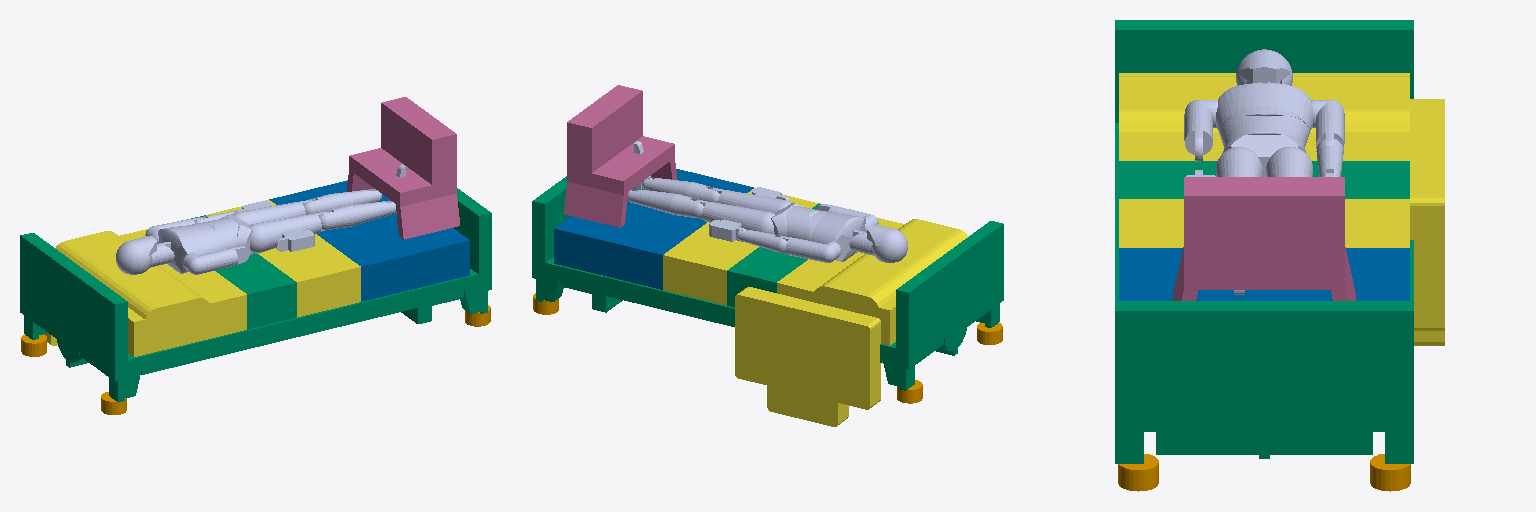
--- Render facts (derived) ---
Views: 3 orthographic renders of the robot side by side, from view 1: azimuth 30°, elevation 25°; view 2: azimuth 150°, elevation 25°; view 3: azimuth 270°, elevation 25°.
Model bed_and_environment_cali_henry_tray with 41 links and 40 joints (26 revolute, 6 prismatic, 8 fixed), rooted at autobed/base_link, posed every joint at zero.
Visible links, largest first — view 1: autobed/bed_frame_link, autobed/head_rest_link, autobed/overbed_tray_link, autobed/leg_rest_lower, autobed/leg_rest_upper, autobed/upper_body_link, autobed/quad_right_link, autobed/calf_right_link, autobed/base_link, autobed/head_link, autobed/arm_right_link, autobed/calf_left_link (+3 smaller); view 2: autobed/head_rest_link, autobed/bed_frame_link, autobed/overbed_tray_link, autobed/leg_rest_lower, autobed/leg_rest_upper, autobed/upper_body_link, autobed/quad_left_link, autobed/calf_left_link, autobed/base_link, autobed/head_link, autobed/calf_right_link, autobed/arm_left_link (+4 smaller); view 3: autobed/bed_frame_link, autobed/head_rest_link, autobed/overbed_tray_link, autobed/leg_rest_lower, autobed/leg_rest_upper, autobed/upper_body_link, autobed/base_link, autobed/mid_body_link, autobed/arm_right_link, autobed/head_link, autobed/arm_left_link, autobed/lower_body_link (+3 smaller).
Boxes of the visible links, bbox=[...] form: autobed/bed_frame_link: bbox=[20, 188, 491, 402]; autobed/head_rest_link: bbox=[44, 229, 246, 356]; autobed/overbed_tray_link: bbox=[347, 97, 459, 239]; autobed/leg_rest_lower: bbox=[269, 180, 469, 301]; autobed/leg_rest_upper: bbox=[206, 200, 360, 317]; autobed/upper_body_link: bbox=[157, 223, 214, 273]; autobed/quad_right_link: bbox=[249, 212, 328, 253]; autobed/calf_right_link: bbox=[320, 201, 395, 229]; autobed/base_link: bbox=[21, 305, 490, 414]; autobed/head_link: bbox=[116, 236, 156, 274]; autobed/arm_right_link: bbox=[182, 246, 249, 274]; autobed/calf_left_link: bbox=[304, 189, 381, 214]; autobed/head_rest_link: bbox=[735, 217, 968, 426]; autobed/bed_frame_link: bbox=[532, 176, 1003, 390]; autobed/overbed_tray_link: bbox=[564, 85, 676, 227]; autobed/leg_rest_lower: bbox=[554, 169, 753, 289]; autobed/leg_rest_upper: bbox=[663, 188, 818, 305]; autobed/upper_body_link: bbox=[809, 211, 866, 261]; autobed/quad_left_link: bbox=[696, 200, 774, 233]; autobed/calf_left_link: bbox=[628, 189, 703, 218]; autobed/base_link: bbox=[533, 293, 1002, 403]; autobed/head_link: bbox=[867, 224, 907, 262]; autobed/calf_right_link: bbox=[642, 177, 719, 202]; autobed/arm_left_link: bbox=[779, 236, 841, 262]; autobed/bed_frame_link: bbox=[1115, 20, 1413, 463]; autobed/head_rest_link: bbox=[1119, 73, 1444, 345]; autobed/overbed_tray_link: bbox=[1173, 177, 1355, 300]; autobed/leg_rest_lower: bbox=[1119, 248, 1409, 300]; autobed/leg_rest_upper: bbox=[1119, 199, 1409, 247]; autobed/upper_body_link: bbox=[1216, 83, 1313, 136]; autobed/base_link: bbox=[1118, 454, 1410, 491]; autobed/mid_body_link: bbox=[1220, 116, 1308, 148]; autobed/arm_right_link: bbox=[1184, 100, 1217, 161]; autobed/head_link: bbox=[1236, 49, 1292, 85]; autobed/arm_left_link: bbox=[1311, 100, 1344, 148]; autobed/lower_body_link: bbox=[1222, 135, 1306, 176].
Bounding box of the posed robot: 2.41 × 1.13 × 1.25 m (x, y, z).
Meshes: 24 distinct files referenced, 21 mesh visuals loaded (21 binary STL); not drawn: 3 (reference not matched to a file when rendering).

URDF robot description (bed_and_environment_cali_henry_tray):
<?xml version="1.0"?>
<robot
  name="bed_and_environment_cali_henry_tray">
  <link
   name="autobed/base_link">
    <inertial>
      <origin
        xyz="1.1357 5.02524375187963E-16 0.0837923121940762"
        rpy="0 0 0" />
      <mass
        value="6.1860172808288" />
      <inertia
        ixx="1.21978721906848"
        ixy="2.44249065417534E-15"
        ixz="-1.95644145492449E-15"
        iyy="8.04681346721547"
        iyz="-8.29396064187448E-16"
        izz="9.14286094259782" />
    </inertial>
    <visual>
      <origin
        xyz="0 0 0"
        rpy="0 0 0" />
      <geometry>
        <mesh
          filename="package://hrl_base_selection/urdf/bed_and_environment_cali_henry_tray/meshes/base_link.STL" />
      </geometry>
    </visual>
    <collision>
      <origin
        xyz="0 0 0"
        rpy="0 0 0" />
      <geometry>
        <mesh
          filename="package://hrl_base_selection/urdf/bed_and_environment_cali_henry_tray/meshes/base_link.STL" />
      </geometry>
    </collision>
  </link>
    <link
   name="autobed/wall_link">
<inertial>
      <origin
        xyz="1.87797370531369 0.344853002331874 0.50260600946241"
        rpy="0 0 0" />
      <mass
        value="3357.24028579199" />
      <inertia
        ixx="6116.11427029265"
        ixy="3215.70073716445"
        ixz="-7.36787327233699"
        iyy="7061.83554462804"
        iyz="404.207480292852"
        izz="12009.0931540893" />
    </inertial>
    <visual>
      <origin
        xyz="0 0 0"
        rpy="0 0 0" />
      <geometry>
        <mesh
          filename="package://hrl_base_selection/urdf/bed_and_environment_cali_henry_tray/meshes/wall_link.STL" />
      </geometry>
    </visual>
    <collision>
      <origin
        xyz="0 0 0"
        rpy="0 0 0" />
      <geometry>
        <mesh
          filename="package://hrl_base_selection/urdf/bed_and_environment_cali_henry_tray/meshes/wall_link.STL" />
      </geometry>
    </collision>
  </link>
  <joint
   name="autobed/origin_wall_joint"
    type="fixed">
    <origin
      xyz="-0.121553494210093 -0.00360284373118887 0"
      rpy="-6.12323399573677E-17 -2.86271466643222E-16 -0.0588984739444681" />
    <parent
      link="autobed/base_link" />
    <child
      link="autobed/wall_link" />
    <axis
      xyz="0 0 0" />
  </joint>
  <link
   name="autobed/bed_frame_link">
    <inertial>
      <origin
        xyz="1.21628575112374 -0.00457131635492439 -0.0135493327987712"
        rpy="0 0 0" />
      <mass
        value="438.573663325781" />
      <inertia
        ixx="42.8905274768398"
        ixy="0.0492397267886641"
        ixz="-5.59060599846785"
        iyy="241.766114116497"
        iyz="0.273352447936363"
        izz="273.415411937571" />
    </inertial>
    <visual>
      <origin
        xyz="0 0 0"
        rpy="0 0 0" />
      <geometry>
        <mesh
          filename="package://hrl_base_selection/urdf/bed_and_environment_cali_henry_tray/meshes/bed_frame_link.STL" />
      </geometry>
    </visual>
    <collision>
      <origin
        xyz="0 0 0"
        rpy="0 0 0" />
      <geometry>
        <mesh
          filename="package://hrl_base_selection/urdf/bed_and_environment_cali_henry_tray/meshes/bed_frame_link.STL" />
      </geometry>
    </collision>
  </link>
  <joint
   name="autobed/tele_legs_joint"
    type="prismatic">
    <origin
      xyz="-0.0400000000000005 0 0.320000000000001"
      rpy="0 0 0" />
    <parent
      link="autobed/base_link" />
    <child
      link="autobed/bed_frame_link" />
    <axis
      xyz="0 0 1" />
    <limit
      lower="-1"
      upper="1"
      effort="0"
      velocity="0" />
  </joint>
  <link
   name="autobed/leg_rest_upper">
    <inertial>
      <origin
        xyz="0.200000000000001 0.105 5.39949211906603E-16"
        rpy="0 0 0" />
      <mass
        value="83.5800000000001" />
      <inertia
        ixx="7.20268062500001"
        ixy="6.22789394401658E-17"
        ixz="5.26123900305408E-16"
        iyy="8.00992412500002"
        iyz="-4.24421100017485E-15"
        izz="1.4215565" />
    </inertial>
    <visual>
      <origin
        xyz="0 0 0"
        rpy="0 0 0" />
      <geometry>
        <mesh
          filename="package://hrl_base_selection/urdf/bed_and_environment_cali_henry_tray/meshes/leg_rest_upper.STL" />
      </geometry>
    </visual>
    <collision>
      <origin
        xyz="0 0 0"
        rpy="0 0 0" />
      <geometry>
        <mesh
          filename="package://hrl_base_selection/urdf/bed_and_environment_cali_henry_tray/meshes/leg_rest_upper.STL" />
      </geometry>
    </collision>
  </link>
  <joint
   name="autobed/leg_rest_upper_hinge"
    type="revolute">
    <origin
      xyz="1.145 0 0"
      rpy="1.5707963267949 -1.84377299293392E-16 7.65430446472183E-16" />
    <parent
      link="autobed/bed_frame_link" />
    <child
      link="autobed/leg_rest_upper" />
    <axis
      xyz="0 0 1" />
    <limit
      lower="-2"
      upper="2"
      effort="0"
      velocity="0" />
  </joint>
  <link
   name="autobed/leg_rest_lower">
    <inertial>
      <origin
        xyz="0.34 0.105 -5.47791833032667E-17"
        rpy="0 0 0" />
      <mass
        value="142.086" />
      <inertia
        ixx="12.2445570625"
        ixy="-5.16774213504574E-17"
        ixz="-2.28125300458666E-16"
        iyy="17.1974382125"
        iyz="4.5484254092282E-16"
        izz="5.99721325" />
    </inertial>
    <visual>
      <origin
        xyz="0 0 0"
        rpy="0 0 0" />
      <geometry>
        <mesh
          filename="package://hrl_base_selection/urdf/bed_and_environment_cali_henry_tray/meshes/leg_rest_lower.STL" />
      </geometry>
    </visual>
    <collision>
      <origin
        xyz="0 0 0"
        rpy="0 0 0" />
      <geometry>
        <mesh
          filename="package://hrl_base_selection/urdf/bed_and_environment_cali_henry_tray/meshes/leg_rest_lower.STL" />
      </geometry>
    </collision>
  </link>
  <joint
   name="autobed/leg_rest_lower_hinge"
    type="revolute">
    <origin
      xyz="0.400000000000001 0 0"
      rpy="8.46545056276682E-16 -2.4743657509036E-16 -1.8315782125782E-16" />
    <parent
      link="autobed/leg_rest_upper" />
    <child
      link="autobed/leg_rest_lower" />
    <axis
      xyz="0 0 -1" />
    <limit
      lower="-2"
      upper="2"
      effort="0"
      velocity="0" />
  </joint>
  <joint
   name="autobed/leg_rest_lower_overbed_tray_y_joint"
    type="prismatic">
    <origin
      xyz="1.1264 0.209999999999999 0.0"
      rpy="-1.5707963267949 -7.65430446472183E-16 -1.84377299293393E-16" />
    <parent
      link="autobed/leg_rest_upper" />
    <child
      link="autobed/overbed_tray_y_link" />
    <axis
      xyz="0 1 0" />
    <limit
      lower="-2"
      upper="2"
      effort="0"
      velocity="0" />
  </joint>
  <link
   name="autobed/overbed_tray_y_link">
  </link>
  <joint
   name="autobed/leg_rest_lower_overbed_tray_x_joint"
    type="prismatic">
    <origin
      xyz="0 0 0"
      rpy="0 0 0" />
    <parent
      link="autobed/overbed_tray_y_link" />
    <child
      link="autobed/overbed_tray_link" />
    <axis
      xyz="1 0 0" />
    <limit
      lower="-2"
      upper="2"
      effort="0"
      velocity="0" />
  </joint>
  <link
   name="autobed/overbed_tray_link">
    <inertial>
      <origin
        xyz="-0.126831334555388 -2.39391839684799E-16 0.292487182922541"
        rpy="0 0 0" />
      <mass
        value="45.8804418306016" />
      <inertia
        ixx="2.25610644406934"
        ixy="5.89980014167489E-16"
        ixz="0.245785758241238"
        iyy="1.17395227790145"
        iyz="9.18641561642936E-16"
        izz="1.88004614377697" />
    </inertial>
    <visual>
      <origin
        xyz="0 0 0"
        rpy="0 0 0" />
      <geometry>
        <mesh
          filename="package://hrl_base_selection/urdf/bed_and_environment_cali_henry_tray/meshes/overbed_tray_link.STL" />
      </geometry>
    </visual>
    <collision>
      <origin
        xyz="0 0 0"
        rpy="0 0 0" />
      <geometry>
        <mesh
          filename="package://hrl_base_selection/urdf/bed_and_environment_cali_henry_tray/meshes/overbed_tray_link.STL" />
      </geometry>
    </collision>
  </link>
  <joint
    name="autobed/tray_screen_bottom_left_joint"
    type="fixed">
    <origin
      xyz="-0.15408 0.27686 0.26419"
      rpy="0 0 0" />
    <parent
      link="autobed/overbed_tray_link" />
    <child
      link="autobed/screen_bottom_left_link" />
  </joint>
  <link
    name="autobed/screen_bottom_left_link">
  </link>
  <joint
    name="autobed/tray_screen_bottom_right_joint"
    type="fixed">
    <origin
      xyz="-0.15408 -0.27686 0.26419"
      rpy="0 0 0" />
    <parent
      link="autobed/overbed_tray_link" />
    <child
      link="autobed/screen_bottom_right_link" />
  </joint>
  <link
    name="autobed/screen_bottom_right_link">
  </link>
  <joint
    name="autobed/tray_screen_top_left_joint"
    type="fixed">
    <origin
      xyz="-0.15408 0.27686 0.53419"
      rpy="0 0 0" />
    <parent
      link="autobed/overbed_tray_link" />
    <child
      link="autobed/screen_top_left_link" />
  </joint>
  <link
    name="autobed/screen_top_left_link">
  </link>
  <joint
    name="autobed/tray_screen_top_right_joint"
    type="fixed">
    <origin
      xyz="-0.15408 -0.27686 0.53419"
      rpy="0 0 0" />
    <parent
      link="autobed/overbed_tray_link" />
    <child
      link="autobed/screen_top_right_link" />
  </joint>
  <link
    name="autobed/screen_top_right_link">
  </link>
  <link
   name="autobed/head_rest_link">
    <inertial>
      <origin
        xyz="0.329573377413269 -0.160120828020686 0.144918621186554"
        rpy="0 0 0" />
      <mass
        value="224.783329311116" />
      <inertia
        ixx="32.8876282309991"
        ixy="1.69548410687658"
        ixz="-3.19639748968515"
        iyy="37.6526299034377"
        iyz="-6.40258778692133"
        izz="16.0712822442492" />
    </inertial>
    <visual>
      <origin
        xyz="0 0 0"
        rpy="0 0 0" />
      <geometry>
        <mesh
          filename="package://hrl_base_selection/urdf/bed_and_environment_cali_henry_tray/meshes/head_rest_link.STL" />
      </geometry>
    </visual>
    <collision>
      <origin
        xyz="0 0 0"
        rpy="0 0 0" />
      <geometry>
        <mesh
          filename="package://hrl_base_selection/urdf/bed_and_environment_cali_henry_tray/meshes/head_rest_link.STL" />
      </geometry>
    </collision>
  </link>
  <joint
   name="autobed/head_rest_hinge"
    type="revolute">
    <origin
      xyz="0.835 0 0.21"
      rpy="1.5708 0 -3.1416" />
    <parent
      link="autobed/bed_frame_link" />
    <child
      link="autobed/head_rest_link" />
    <axis
      xyz="0 0 1" />
    <limit
      lower="-2"
      upper="2"
      effort="0"
      velocity="0" />
  </joint>
  <link
    name="autobed/neck_rotated_to_worldframe_link">
  </link>
  <joint
    name="autobed/headrest_bed_to_worldframe_joint"
    type="revolute">
    <origin
      xyz="0.25949 0.1 0"
      rpy="0. 0. 0." />
    <!--<origin-->
      <!--xyz="0.40949 0.05 0"-->
      <!--rpy="0. 0. 0." />-->
    <parent
      link="autobed/head_rest_link" />
    <child
      link="autobed/neck_rotated_to_worldframe_link" />
    <axis
      xyz="0 0 1" />
    <limit
      lower="-2"
      upper="2"
      effort="0"
      velocity="0" />
  </joint>
  <link
    name="autobed/neck_updown_worldframe_translation_link">
  </link>
  <joint
    name="autobed/bed_neck_worldframe_updown_joint"
    type="prismatic">
    <origin
      xyz="0.0 0.0 0"
      rpy="0.0 0.0 0.0" />
    <parent
      link="autobed/neck_rotated_to_worldframe_link" />
    <child
      link="autobed/neck_updown_worldframe_translation_link" />
    <axis
      xyz="-1 0 0" />
    <limit
      lower="-2"
      upper="2"
      effort="0"
      velocity="0" />
  </joint>
  <link
    name="autobed/neck_rotated_to_bedframe_link">
  </link>
  <joint
    name="autobed/bed_neck_to_bedframe_joint"
    type="revolute">
    <origin
      xyz="0.0 0.0 0"
      rpy="0. 0. 0." />
    <parent
      link="autobed/neck_updown_worldframe_translation_link" />
    <child
      link="autobed/neck_rotated_to_bedframe_link" />
    <axis
      xyz="0 0 1" />
    <limit
      lower="-2"
      upper="2"
      effort="0"
      velocity="0" />
  </joint>
  <link
    name="autobed/neck_updown_bedframe_translation_link">
  </link>
  <joint
    name="autobed/bed_neck_base_updown_bedframe_joint"
    type="prismatic">
    <origin
      xyz="0.0 0.0 0"
      rpy="0. 0. 0." />
    <parent
      link="autobed/neck_rotated_to_bedframe_link" />
    <child
      link="autobed/neck_updown_bedframe_translation_link" />
    <axis
      xyz="-1 0 0" />
    <limit
      lower="-2"
      upper="2"
      effort="0"
      velocity="0" />
  </joint>
  <link
    name="autobed/neck_base_link">
  </link>
  <joint
    name="autobed/bed_neck_base_leftright_joint"
    type="prismatic">
    <origin
      xyz="0 0 0"
      rpy="0 3.14159 0" />
    <parent
      link="autobed/neck_updown_bedframe_translation_link" />
    <child
      link="autobed/neck_base_link" />
    <axis
      xyz="0 0 -1" />
    <limit
      lower="-2"
      upper="2"
      effort="0"
      velocity="0" />
  </joint>
  <link
    name="autobed/neck_twist_link">
  </link>
  <joint
    name="autobed/neck_twist_joint"
    type="revolute">
    <origin
      xyz="0.0 0.0 0"
      rpy="0. 0. 0." />
    <parent
      link="autobed/neck_base_link" />
    <child
      link="autobed/neck_twist_link" />
    <axis
      xyz="1 0 0" />
    <limit
      lower="-2"
      upper="2"
      effort="0"
      velocity="0" />
  </joint>
  <link
    name="autobed/neck_tilt_link">
  </link>
  <joint
    name="autobed/neck_tilt_joint"
    type="revolute">
    <origin
      xyz="0.0 0.0 0"
      rpy="0. 0. 0." />
    <parent
      link="autobed/neck_twist_link" />
    <child
      link="autobed/neck_tilt_link" />
    <axis
      xyz="0 0 -1" />
    <limit
      lower="-2"
      upper="2"
      effort="0"
      velocity="0" />
  </joint>
  <link
    name="autobed/neck_link">
    <visual>
      <origin
        xyz="0 0 0"
        rpy="0 0 0" />
      <geometry>
        <mesh
          filename="package://hrl_base_selection/urdf/bed_and_environment_cali_henry_tray/meshes/neck_link.STL" />
      </geometry>
      <material
        name="">
        <color
          rgba="0.792156862745098 0.819607843137255 0.933333333333333 1" />
      </material>
    </visual>
    <collision>
      <origin
        xyz="0 0 0"
        rpy="0 0 0" />
      <geometry>
        <mesh
          filename="package://hrl_base_selection/urdf/bed_and_environment_cali_henry_tray/meshes/neck_link.STL" />
      </geometry>
    </collision>
  </link>
  <joint
    name="autobed/neck_to_neck_top_joint"
    type="fixed">
    <origin
      xyz="-0.07239 0 0"
      rpy="0 0 0" />
    <parent
      link="autobed/neck_tilt_link" />
    <child
      link="autobed/neck_link" />
  </joint>
  <link
    name="autobed/neck_top_rotated_link">
  </link>
  <joint
    name="autobed/neck_rotation_fixed_joint"
    type="fixed">
    <origin
      xyz="0 0 0"
      rpy="-1.570796 0 1.570796" />
    <parent
      link="autobed/neck_link" />
    <child
      link="autobed/neck_top_rotated_link" />
    <axis
      xyz="0 0 1" />
    <limit
      lower="-2"
      upper="2"
      effort="0"
      velocity="0" />
  </joint>
  <link
    name="autobed/head_roty_link">
  </link>
  <joint
    name="autobed/neck_head_roty_joint"
    type="revolute">
    <origin
      xyz="0.0154 0 0.07779"
      rpy="0 0 0" />
    <parent
      link="autobed/neck_top_rotated_link" />
    <child
      link="autobed/head_roty_link" />
    <axis
      xyz="0 1 0" />
    <limit
      lower="-2"
      upper="2"
      effort="0"
      velocity="0" />
  </joint>
  <link
    name="autobed/head_rotz_link">
  </link>
  <joint
    name="autobed/neck_head_rotz_joint"
    type="revolute">
    <origin
      xyz="0 0 0"
      rpy="0 0 0" />
    <parent
      link="autobed/head_roty_link" />
    <child
      link="autobed/head_rotz_link" />
    <axis
      xyz="0 0 1" />
    <limit
      lower="-2"
      upper="2"
      effort="0"
      velocity="0" />
  </joint>

  <link
    name="autobed/head_link">
    <visual>
      <origin
        xyz="0 0 0"
        rpy="0 0 0" />
      <geometry>
        <mesh
          filename="package://hrl_base_selection/urdf/bed_and_environment_cali_henry_tray/meshes/head_link.STL" />
      </geometry>
      <material
        name="">
        <color
          rgba="0.792156862745098 0.819607843137255 0.933333333333333 1" />
      </material>
    </visual>
    <collision>
      <origin
        xyz="0 0 0"
        rpy="0 0 0" />
      <geometry>
        <mesh
          filename="package://hrl_base_selection/urdf/bed_and_environment_cali_henry_tray/meshes/head_link.STL" />
      </geometry>
    </collision>
  </link>
  <joint
    name="autobed/neck_head_rotx_joint"
    type="revolute">
    <origin
      xyz="0 0 0"
      rpy="0 0 0" />
    <parent
      link="autobed/head_rotz_link" />
    <child
      link="autobed/head_link" />
    <axis
      xyz="1 0 0" />
    <limit
      lower="-2"
      upper="2"
      effort="0"
      velocity="0" />
  </joint>
  <joint
    name="autobed/head_eyes_joint"
    type="fixed">
    <origin
      xyz="0.09779 0 0.03"
      rpy="0 0 0" />
    <parent
      link="autobed/head_link" />
    <child
      link="autobed/eyes_link" />
  </joint>
  <link
    name="autobed/eyes_link">
  </link>
  <link
    name="autobed/upper_body_link">
    <visual>
      <origin
        xyz="0 0 0"
        rpy="0 0 0" />
      <geometry>
        <mesh
          filename="package://hrl_base_selection/urdf/bed_and_environment_cali_henry_tray/meshes/upper_body_link.STL" />
      </geometry>
      <material
        name="">
        <color
          rgba="0.792156862745098 0.819607843137255 0.933333333333333 1" />
      </material>
    </visual>
    <collision>
      <origin
        xyz="0 0 0"
        rpy="0 0 0" />
      <geometry>
        <mesh
          filename="package://hrl_base_selection/urdf/bed_and_environment_cali_henry_tray/meshes/upper_body_link.STL" />
      </geometry>
    </collision>
  </link>
  <joint
    name="autobed/neck_body_joint"
    type="revolute">
    <origin
      xyz="0.00 0 0"
      rpy="0 0 0" />
    <parent
      link="autobed/neck_base_link" />
    <child
      link="autobed/upper_body_link" />
    <axis
      xyz="0 0 -1" />
    <limit
      lower="-2"
      upper="2"
      effort="0"
      velocity="0" />
  </joint>
  <link
    name="autobed/mid_body_link">
    <visual>
      <origin
        xyz="0 0 0"
        rpy="0 0 0" />
      <geometry>
        <mesh
          filename="package://hrl_base_selection/urdf/bed_and_environment_cali_henry_tray/meshes/mid_body_link.STL" />
      </geometry>
      <material
        name="">
        <color
          rgba="0.792156862745098 0.819607843137255 0.933333333333333 1" />
      </material>
    </visual>
    <collision>
      <origin
        xyz="0 0 0"
        rpy="0 0 0" />
      <geometry>
        <mesh
          filename="package://hrl_base_selection/urdf/bed_and_environment_cali_henry_tray/meshes/mid_body_link.STL" />
      </geometry>
    </collision>
  </link>
  <joint
    name="autobed/upper_mid_body_joint"
    type="revolute">
    <origin
      xyz="0.35052 0 0"
      rpy="0 0 0" />
    <parent
      link="autobed/upper_body_link" />
    <child
      link="autobed/mid_body_link" />
    <axis
      xyz="0 0 1" />
    <limit
      lower="-2"
      upper="2"
      effort="0"
      velocity="0" />
  </joint>
  <link
    name="autobed/lower_body_link">
    <visual>
      <origin
        xyz="0 0 0"
        rpy="0 0 0" />
      <geometry>
        <mesh
          filename="package://hrl_base_selection/urdf/bed_and_environment_cali_henry_tray/meshes/lower_body_link.STL" />
      </geometry>
      <material
        name="">
        <color
          rgba="0.792156862745098 0.819607843137255 0.933333333333333 1" />
      </material>
    </visual>
    <collision>
      <origin
        xyz="0 0 0"
        rpy="0 0 0" />
      <geometry>
        <mesh
          filename="package://hrl_base_selection/urdf/bed_and_environment_cali_henry_tray/meshes/lower_body_link.STL" />
      </geometry>
    </collision>
  </link>
  <joint
    name="autobed/mid_lower_body_joint"
    type="revolute">
    <origin
      xyz="0.15113 0 0"
      rpy="0 0 0" />
    <parent
      link="autobed/mid_body_link" />
    <child
      link="autobed/lower_body_link" />
    <axis
      xyz="0 0 1" />
    <limit
      lower="-2"
      upper="2"
      effort="0"
      velocity="0" />
  </joint>
  <link
    name="autobed/quad_left_link">
    <visual>
      <origin
        xyz="0 0 0"
        rpy="0 0 0" />
      <geometry>
        <mesh
          filename="package://hrl_base_selection/urdf/bed_and_environment_cali_henry_tray/meshes/quad_left_link.STL" />
      </geometry>
      <material
        name="">
        <color
          rgba="0.792156862745098 0.819607843137255 0.933333333333333 1" />
      </material>
    </visual>
    <collision>
      <origin
        xyz="0 0 0"
        rpy="0 0 0" />
      <geometry>
        <mesh
          filename="package://hrl_base_selection/urdf/bed_and_environment_cali_henry_tray/meshes/quad_left_link.STL" />
      </geometry>
    </collision>
  </link>
  <joint
    name="autobed/body_quad_left_joint"
    type="revolute">
    <origin
      xyz="0.05207 0 -0.08636"
      rpy="0 0 -.25" />
    <parent
      link="autobed/lower_body_link" />
    <child
      link="autobed/quad_left_link" />
    <axis
      xyz="0 0 1" />
    <limit
      lower="-3."
      upper="3."
      effort="0"
      velocity="0" />
  </joint>
  <link
    name="autobed/calf_left_link">
    <visual>
      <origin
        xyz="0 0 0"
        rpy="0 0 0" />
      <geometry>
        <mesh
          filename="package://hrl_base_selection/urdf/bed_and_environment_cali_henry_tray/meshes/calf_left_link.STL" />
      </geometry>
      <material
        name="">
        <color
          rgba="0.792156862745098 0.819607843137255 0.933333333333333 1" />
      </material>
    </visual>
    <collision>
      <origin
        xyz="0 0 0"
        rpy="0 0 0" />
      <geometry>
        <mesh
          filename="package://hrl_base_selection/urdf/bed_and_environment_cali_henry_tray/meshes/calf_left_link.STL" />
      </geometry>
    </collision>
  </link>
  <joint
    name="autobed/quad_calf_left_joint"
    type="revolute">
    <origin
      xyz="0.41218 0.11044 0"
      rpy="3.14159 0 3.43" />
    <parent
      link="autobed/quad_left_link" />
    <child
      link="autobed/calf_left_link" />
    <axis
      xyz="0 0 1" />
    <limit
      lower="-3."
      upper="3."
      effort="0"
      velocity="0" />
  </joint>
  <link
    name="autobed/foot_left_link">
    <visual>
      <origin
        xyz="0 0 0"
        rpy="0 0 0" />
      <geometry>
        <mesh
          filename="package://hrl_base_selection/urdf/bed_and_environment_cali_henry_tray/meshes/foot_left_link.STL" />
      </geometry>
      <material
        name="">
        <color
          rgba="0.792156862745098 0.819607843137255 0.933333333333333 1" />
      </material>
    </visual>
    <collision>
      <origin
        xyz="0 0 0"
        rpy="0 0 0" />
      <geometry>
        <mesh
          filename="package://hrl_base_selection/urdf/bed_and_environment_cali_henry_tray/meshes/foot_left_link.STL" />
      </geometry>
    </collision>
  </link>
  <joint
    name="autobed/calf_foot_left_joint"
    type="revolute">
    <origin
      xyz="-0.41279 -0.03188 0"
      rpy="0 0 0.09" />
    <parent
      link="autobed/calf_left_link" />
    <child
      link="autobed/foot_left_link" />
    <axis
      xyz="0 0 1" />
    <limit
      lower="-3."
      upper="3."
      effort="0"
      velocity="0" />
  </joint>
  <link
    name="autobed/quad_right_link">
    <visual>
      <origin
        xyz="0 0 0"
        rpy="0 0 0" />
      <geometry>
        <mesh
          filename="package://hrl_base_selection/urdf/bed_and_environment_cali_henry_tray/meshes/quad_right_link.STL" />
      </geometry>
      <material
        name="">
        <color
          rgba="0.792156862745098 0.819607843137255 0.933333333333333 1" />
      </material>
    </visual>
    <collision>
      <origin
        xyz="0 0 0"
        rpy="0 0 0" />
      <geometry>
        <mesh
          filename="package://hrl_base_selection/urdf/bed_and_environment_cali_henry_tray/meshes/quad_right_link.STL" />
      </geometry>
    </collision>
  </link>
  <joint
    name="autobed/body_quad_right_joint"
    type="revolute">
    <origin
      xyz="0.05207 0 0.08636"
      rpy="0 0 -.25" />
    <parent
      link="autobed/lower_body_link" />
    <child
      link="autobed/quad_right_link" />
    <axis
      xyz="0 0 1" />
    <limit
      lower="-3"
      upper="3"
      effort="0"
      velocity="0" />
  </joint>
  <link
    name="autobed/calf_right_link">
    <visual>
      <origin
        xyz="0 0 0"
        rpy="0 0 0" />
      <geometry>
        <mesh
          filename="package://hrl_base_selection/urdf/bed_and_environment_cali_henry_tray/meshes/calf_right_link.STL" />
      </geometry>
      <material
        name="">
        <color
          rgba="0.792156862745098 0.819607843137255 0.933333333333333 1" />
      </material>
    </visual>
    <collision>
      <origin
        xyz="0 0 0"
        rpy="0 0 0" />
      <geometry>
        <mesh
          filename="package://hrl_base_selection/urdf/bed_and_environment_cali_henry_tray/meshes/calf_right_link.STL" />
      </geometry>
    </collision>
  </link>
  <joint
    name="autobed/quad_calf_right_joint"
    type="revolute">
    <origin
      xyz="0.41218 0.11044 0"
      rpy="3.14159 0 3.43" />
    <parent
      link="autobed/quad_right_link" />
    <child
      link="autobed/calf_right_link" />
    <axis
      xyz="0 0 1" />
    <limit
      lower="-3"
      upper="3"
      effort="0"
      velocity="0" />
  </joint>
  <link
    name="autobed/foot_right_link">
    <visual>
      <origin
        xyz="0 0 0"
        rpy="0 0 0" />
      <geometry>
        <mesh
          filename="package://hrl_base_selection/urdf/bed_and_environment_cali_henry_tray/meshes/foot_right_link.STL" />
      </geometry>
      <material
        name="">
        <color
          rgba="0.792156862745098 0.819607843137255 0.933333333333333 1" />
      </material>
    </visual>
    <collision>
      <origin
        xyz="0 0 0"
        rpy="0 0 0" />
      <geometry>
        <mesh
          filename="package://hrl_base_selection/urdf/bed_and_environment_cali_henry_tray/meshes/foot_right_link.STL" />
      </geometry>
    </collision>
  </link>
  <joint
    name="autobed/calf_foot_right_joint"
    type="revolute">
    <origin
      xyz="-0.41279 -0.03188 0"
      rpy="0 0 0.09" />
    <parent
      link="autobed/calf_right_link" />
    <child
      link="autobed/foot_right_link" />
    <axis
      xyz="0 0 1" />
    <limit
      lower="-3"
      upper="3"
      effort="0"
      velocity="0" />
  </joint>
  <link
    name="autobed/arm_left_link">
    <visual>
      <origin
        xyz="0 0 0"
        rpy="0 0 0" />
      <geometry>
        <mesh
          filename="package://hrl_base_selection/urdf/bed_and_environment_cali_henry_tray/meshes/arm_left_link.STL" />
      </geometry>
      <material
        name="">
        <color
          rgba="0.792156862745098 0.819607843137255 0.933333333333333 1" />
      </material>
    </visual>
    <collision>
      <origin
        xyz="0 0 0"
        rpy="0 0 0" />
      <geometry>
        <mesh
          filename="package://hrl_base_selection/urdf/bed_and_environment_cali_henry_tray/meshes/arm_left_link.STL" />
      </geometry>
    </collision>
  </link>
  <joint
    name="autobed/body_arm_left_joint"
    type="revolute">
    <origin
      xyz="0.09652 0 -0.17526"
      rpy="0 0 0" />
    <parent
      link="autobed/upper_body_link" />
    <child
      link="autobed/arm_left_link" />
    <axis
      xyz="0 0 1" />
    <limit
      lower="-3"
      upper="3"
      effort="0"
      velocity="0" />
  </joint>
  <link
    name="autobed/forearm_left_rotx_link">
  </link>
  <joint
    name="autobed/arm_forearm_left_rotx_joint"
    type="revolute">
    <origin
      xyz="0.28174 -0.0106 -0.04953"
      rpy="0 0 0" />
    <parent
      link="autobed/arm_left_link" />
    <child
      link="autobed/forearm_left_rotx_link" />
    <axis
      xyz="1 0 0" />
    <limit
      lower="-3"
      upper="3"
      effort="0"
      velocity="0" />
  </joint>

  <link
    name="autobed/forearm_left_link">
    <visual>
      <origin
        xyz="0 0 0"
        rpy="0 0 0" />
      <geometry>
        <mesh
          filename="package://hrl_base_selection/urdf/bed_and_environment_cali_henry_tray/meshes/forearm_left_link.STL" />
      </geometry>
      <material
        name="">
        <color
          rgba="0.792156862745098 0.819607843137255 0.933333333333333 1" />
      </material>
    </visual>
    <collision>
      <origin
        xyz="0 0 0"
        rpy="0 0 0" />
      <geometry>
        <mesh
          filename="package://hrl_base_selection/urdf/bed_and_environment_cali_henry_tray/meshes/forearm_left_link.STL" />
      </geometry>
    </collision>
  </link>
  <joint
    name="autobed/arm_forearm_left_rotz_joint"
    type="revolute">
    <origin
      xyz="0 0 0"
      rpy="0 0 0" />
    <parent
      link="autobed/forearm_left_rotx_link" />
    <child
      link="autobed/forearm_left_link" />
    <axis
      xyz="0 0 1" />
    <limit
      lower="-3"
      upper="3"
      effort="0"
      velocity="0" />
  </joint>
  <link
    name="autobed/hand_left_link">
    <visual>
      <origin
        xyz="0 0 0"
        rpy="0 0 0" />
      <geometry>
        <mesh
          filename="package://hrl_base_selection/urdf/bed_and_environment_cali_henry_tray/meshes/hand_left_link.STL" />
      </geometry>
      <material
        name="">
        <color
          rgba="0.792156862745098 0.819607843137255 0.933333333333333 1" />
      </material>
    </visual>
    <collision>
      <origin
        xyz="0 0 0"
        rpy="0 0 0" />
      <geometry>
        <mesh
          filename="package://hrl_base_selection/urdf/bed_and_environment_cali_henry_tray/meshes/hand_left_link.STL" />
      </geometry>
    </collision>
  </link>
  <joint
    name="autobed/forearm_hand_left_joint"
    type="revolute">
    <origin
      xyz="0.25146 0 0"
      rpy="0 0 0" />
    <parent
      link="autobed/forearm_left_link" />
    <child
      link="autobed/hand_left_link" />
    <axis
      xyz="0 0 1" />
    <limit
      lower="-3"
      upper="3"
      effort="0"
      velocity="0" />
  </joint>
  <link
    name="autobed/arm_right_link">
    <visual>
      <origin
        xyz="0 0 0"
        rpy="0 0 0" />
      <geometry>
        <mesh
          filename="package://hrl_base_selection/urdf/bed_and_environment_cali_henry_tray/meshes/arm_right_link.STL" />
      </geometry>
      <material
        name="">
        <color
          rgba="0.792156862745098 0.819607843137255 0.933333333333333 1" />
      </material>
    </visual>
    <collision>
      <origin
        xyz="0 0 0"
        rpy="0 0 0" />
      <geometry>
        <mesh
          filename="package://hrl_base_selection/urdf/bed_and_environment_cali_henry_tray/meshes/arm_right_link.STL" />
      </geometry>
    </collision>
  </link>
  <joint
    name="autobed/body_arm_right_joint"
    type="revolute">
    <origin
      xyz="0.09652 0 0.17526"
      rpy="0 0 0" />
    <parent
      link="autobed/upper_body_link" />
    <child
      link="autobed/arm_right_link" />
    <axis
      xyz="0 0 1" />
    <limit
      lower="-3"
      upper="3"
      effort="0"
      velocity="0" />
  </joint>
  <link
    name="autobed/forearm_right_link">
    <visual>
      <origin
        xyz="0 0 0"
        rpy="0 0 0" />
      <geometry>
        <mesh
          filename="package://hrl_base_selection/urdf/bed_and_environment_cali_henry_tray/meshes/forearm_right_link.STL" />
      </geometry>
      <material
        name="">
        <color
          rgba="0.792156862745098 0.819607843137255 0.933333333333333 1" />
      </material>
    </visual>
    <collision>
      <origin
        xyz="0 0 0"
        rpy="0 0 0" />
      <geometry>
        <mesh
          filename="package://hrl_base_selection/urdf/bed_and_environment_cali_henry_tray/meshes/forearm_right_link.STL" />
      </geometry>
    </collision>
  </link>
  <joint
    name="autobed/arm_forearm_right_joint"
    type="revolute">
    <origin
      xyz="0.28194 0 0.04953"
      rpy="0 0 0" />
    <parent
      link="autobed/arm_right_link" />
    <child
      link="autobed/forearm_right_link" />
    <axis
      xyz="0 0 1" />
    <limit
      lower="-3"
      upper="3"
      effort="0"
      velocity="0" />
  </joint>
  <link
    name="autobed/hand_right_link">
    <visual>
      <origin
        xyz="0 0 0"
        rpy="0 0 0" />
      <geometry>
        <mesh
          filename="package://hrl_base_selection/urdf/bed_and_environment_cali_henry_tray/meshes/hand_right_link.STL" />
      </geometry>
      <material
        name="">
        <color
          rgba="0.792156862745098 0.819607843137255 0.933333333333333 1" />
      </material>
    </visual>
    <collision>
      <origin
        xyz="0 0 0"
        rpy="0 0 0" />
      <geometry>
        <mesh
          filename="package://hrl_base_selection/urdf/bed_and_environment_cali_henry_tray/meshes/hand_right_link.STL" />
      </geometry>
    </collision>
  </link>
  <joint
    name="autobed/forearm_hand_right_joint"
    type="revolute">
    <origin
      xyz="0.25146 0 0"
      rpy="0 0 0" />
    <parent
      link="autobed/forearm_right_link" />
    <child
      link="autobed/hand_right_link" />
    <axis
      xyz="0 0 1" />
    <limit
      lower="-3"
      upper="3"
      effort="0"
      velocity="0" />
  </joint>

</robot>
